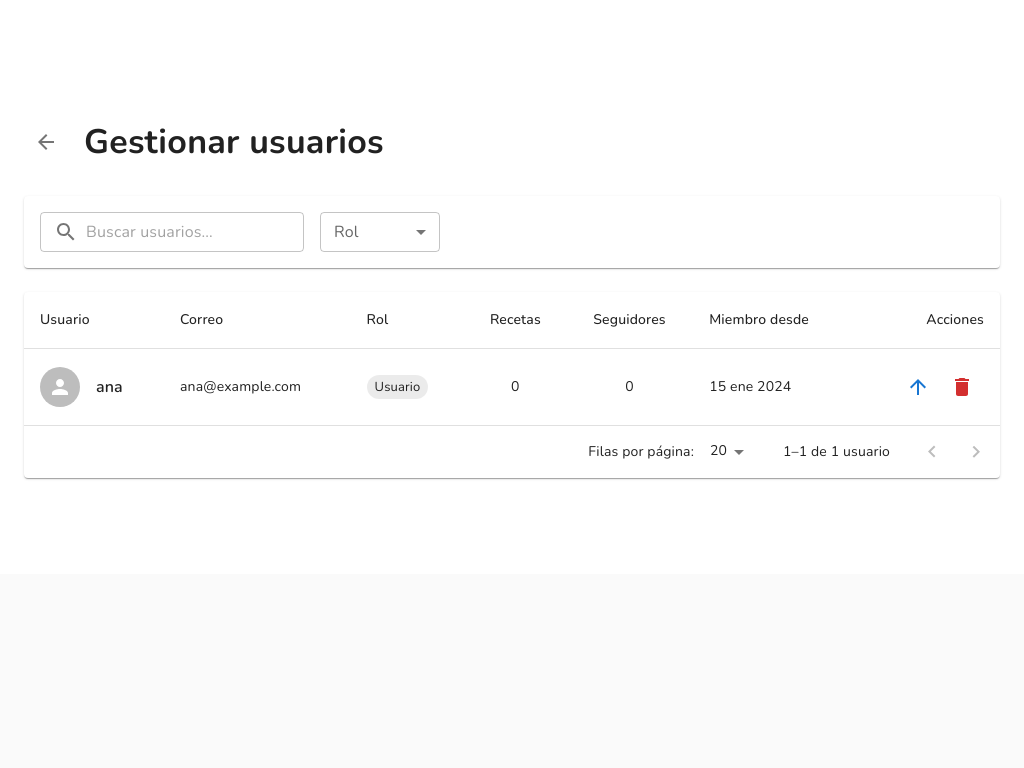
Test case: Admin users page in Spanish › should ask for confirmation in Spanish before deleting a user
This screenshot has width=1024, height=768.
Click the button named "Eliminar usuario".
click(962, 387)  # box [940, 365, 984, 409]
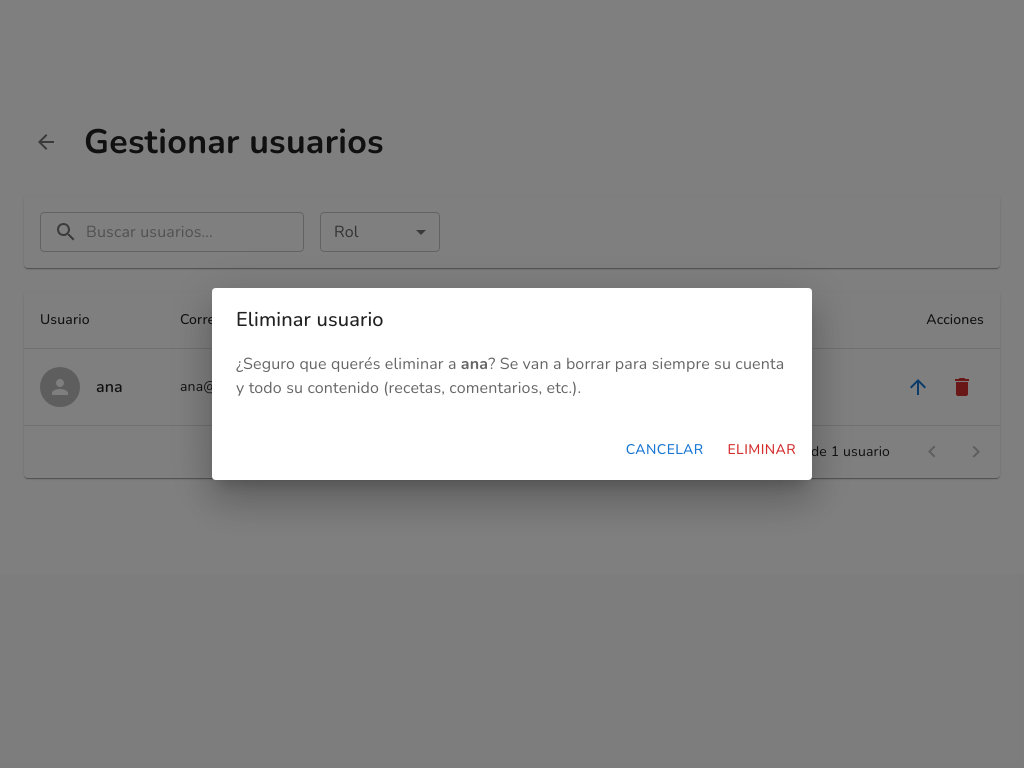
Now the heading "Eliminar usuario" is shown, box [236, 306, 384, 333]
Now the text "¿Seguro que querés eliminar a" is shown, box [236, 353, 461, 375]
Now the button "Cancelar" is shown, box [618, 428, 712, 472]
